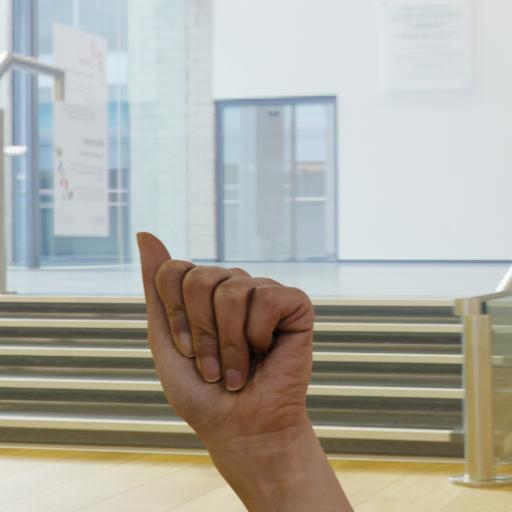A: (118, 216, 336, 464)
